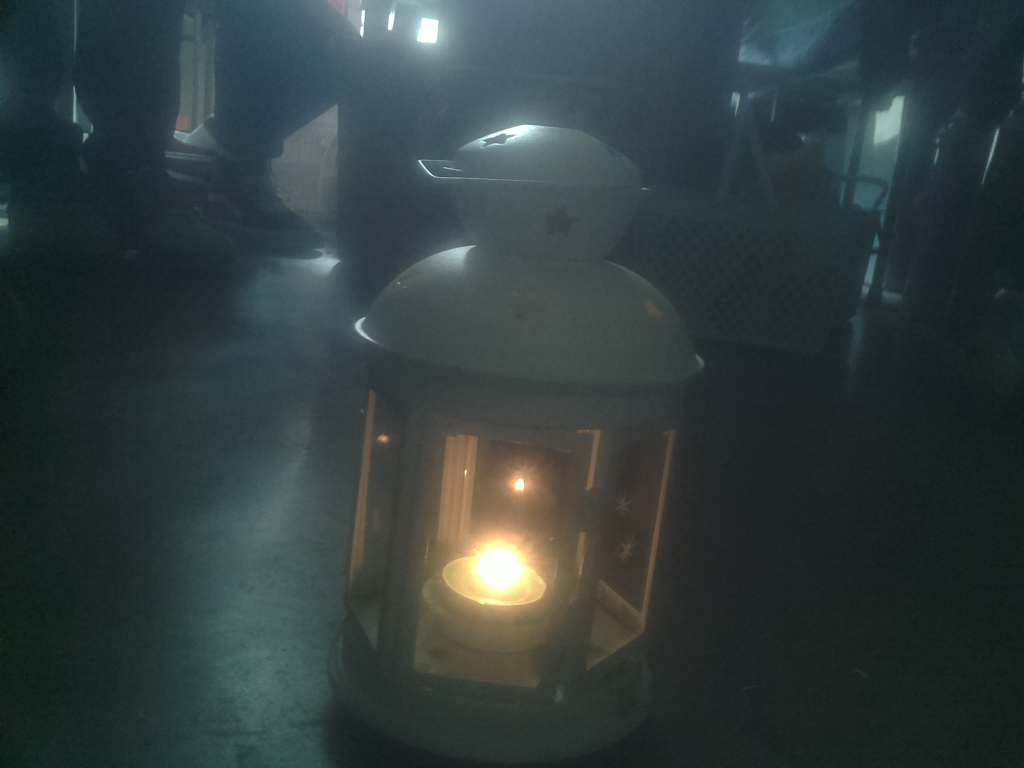fire: (422, 516, 566, 630)
